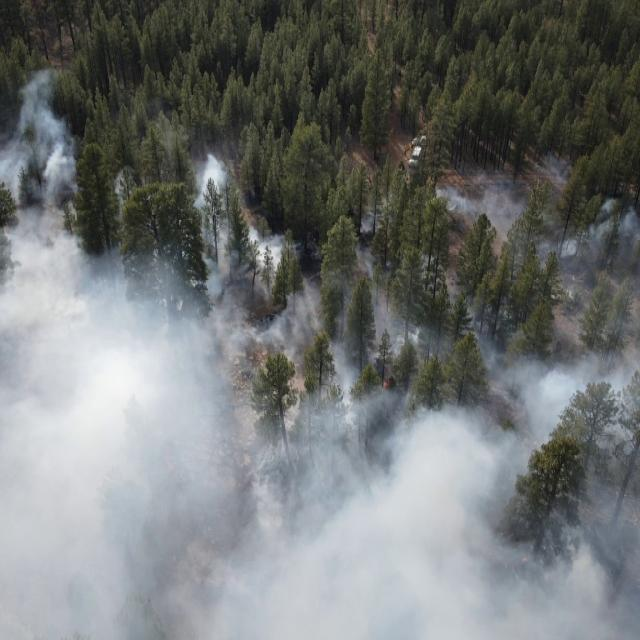fire: (371, 368, 404, 400)
smoke: (251, 257, 639, 640), (0, 255, 250, 639), (439, 155, 640, 259), (0, 65, 76, 256), (116, 121, 237, 201), (190, 204, 300, 256), (350, 180, 403, 260)
